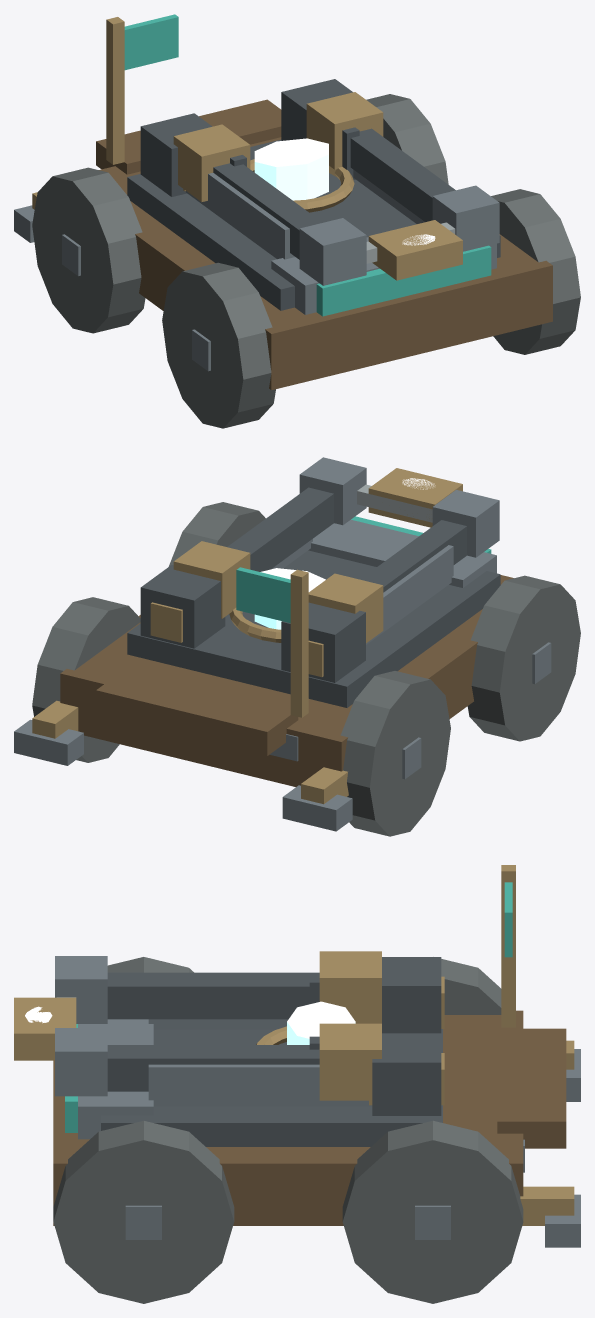
The model's file is unit-siege-construct.glb.
3 renders of one model, top to bottom at view 1: azimuth 30°, elevation 25°; view 2: azimuth 150°, elevation 25°; view 3: azimuth 270°, elevation 25°, orthographic. The views are drawn at different scales.
Parts seen in each view (by area): view 1: Body, Weapon; view 2: Body, Weapon; view 3: Body, Weapon.
Part boxes in pixels (x1,y1,x2,y2): Body: [14, 14, 580, 428]; Weapon: [173, 92, 499, 285]; Body: [14, 502, 580, 836]; Weapon: [173, 457, 499, 643]; Body: [53, 865, 580, 1303]; Weapon: [14, 951, 381, 1100].
Size of the model in its own units: 2.68 by 1.97 by 3.45.
